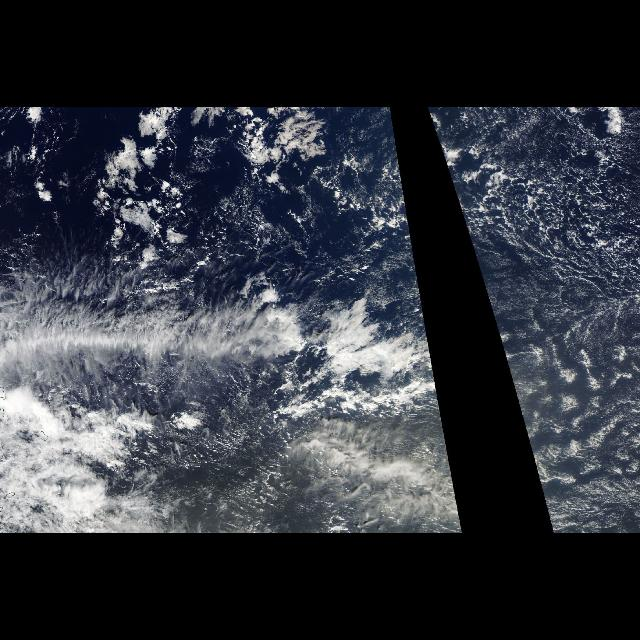Fish: (0, 284, 444, 434)
Gravel: (428, 108, 632, 256), (372, 108, 416, 256)
Sugar: (466, 118, 640, 520)
